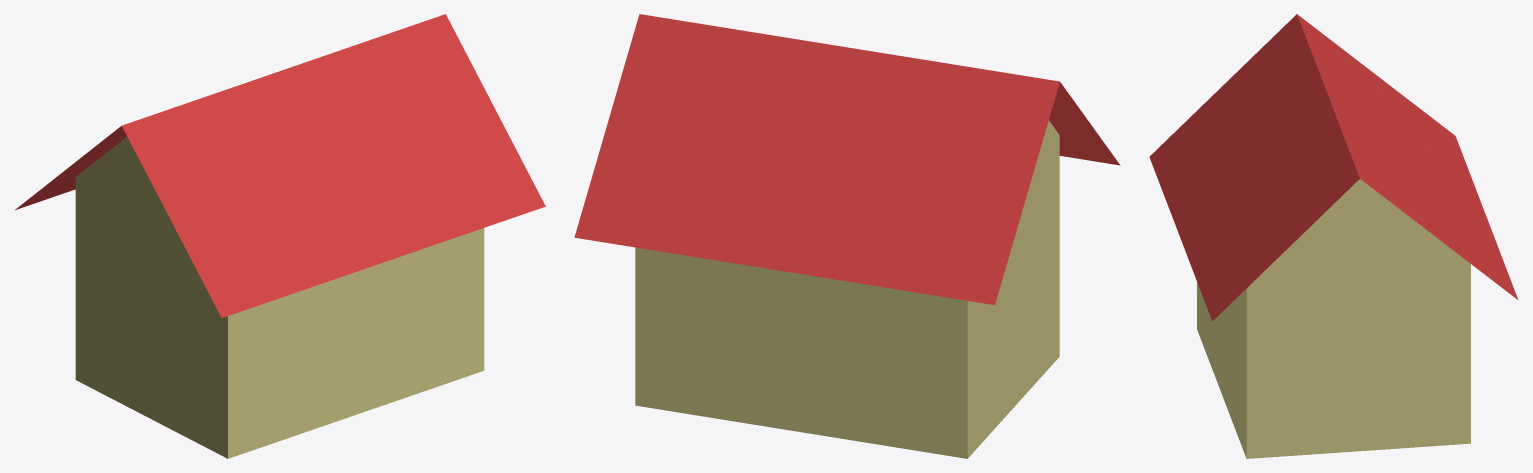
3 renders of one model, left to right at view 1: azimuth 30°, elevation 25°; view 2: azimuth 150°, elevation 25°; view 3: azimuth 270°, elevation 25°, orthographic. The views are drawn at different scales.
Size of the model in its own units: 15.91 by 13.38 by 11.6.
